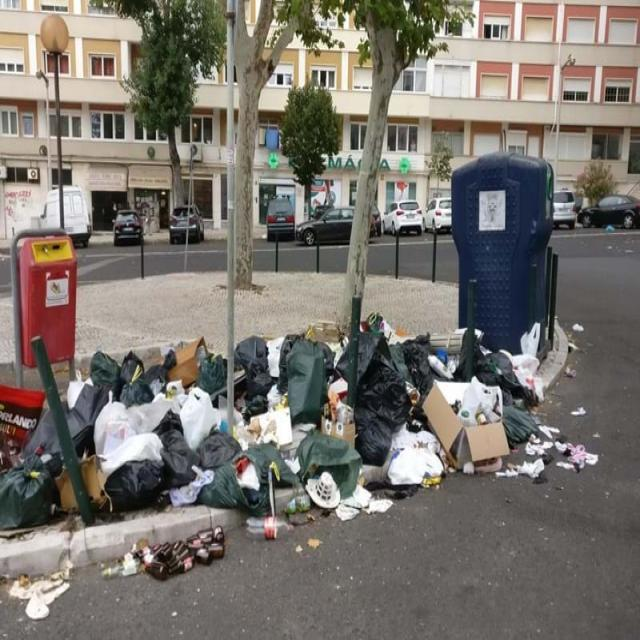garbage: (0, 299, 602, 512), (100, 516, 230, 590), (0, 546, 76, 626), (246, 511, 296, 542)
